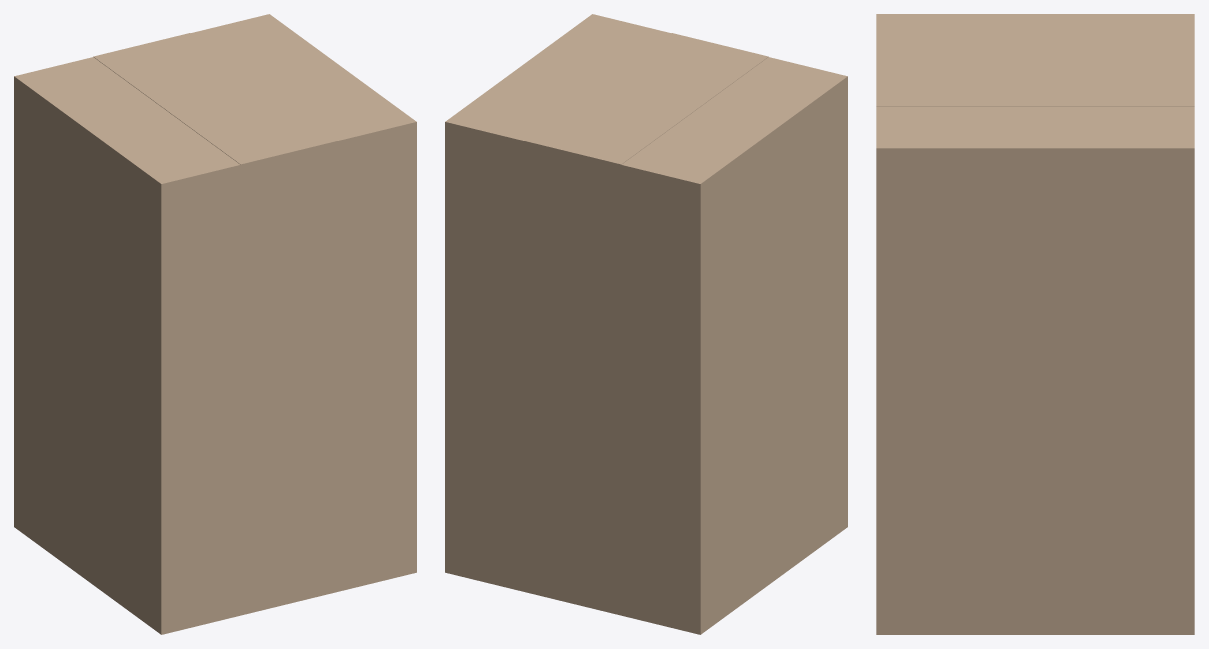
File: boxHAUT.FBX
3 renders of one model, left to right at view 1: azimuth 30°, elevation 25°; view 2: azimuth 150°, elevation 25°; view 3: azimuth 270°, elevation 25°, orthographic. The views are drawn at different scales.
Parts seen in each view (by area): view 1: boxHAUT; view 2: boxHAUT; view 3: boxHAUT.
Part boxes in pixels (left/top/right/bottom): boxHAUT: left=14, top=14, right=416, bottom=634; boxHAUT: left=445, top=14, right=847, bottom=634; boxHAUT: left=876, top=14, right=1194, bottom=634.
Size of the model in its own units: 9.52 by 16.07 by 9.52.
